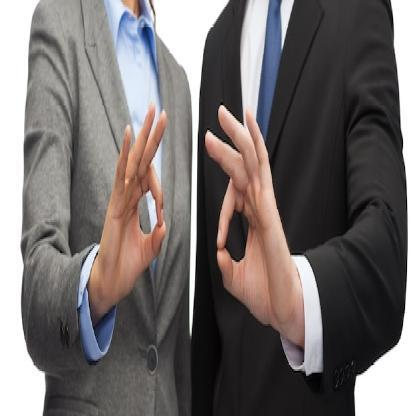ok: (203, 101, 291, 330), (100, 96, 168, 312)
